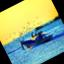fishing boat: (16, 22, 56, 55)
